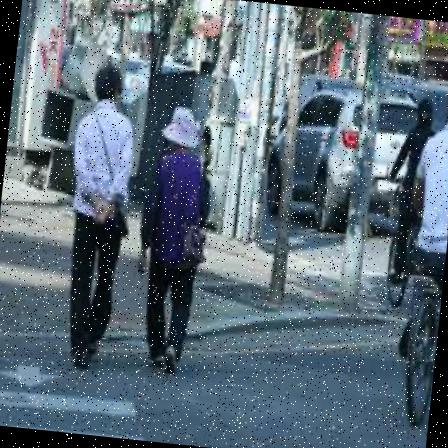silver: (48, 63, 150, 374), (125, 106, 224, 376)
